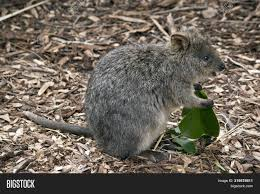quokka: (15, 24, 232, 162)
